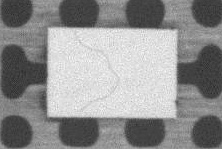DIE_CRACK: (74, 30, 120, 109)
